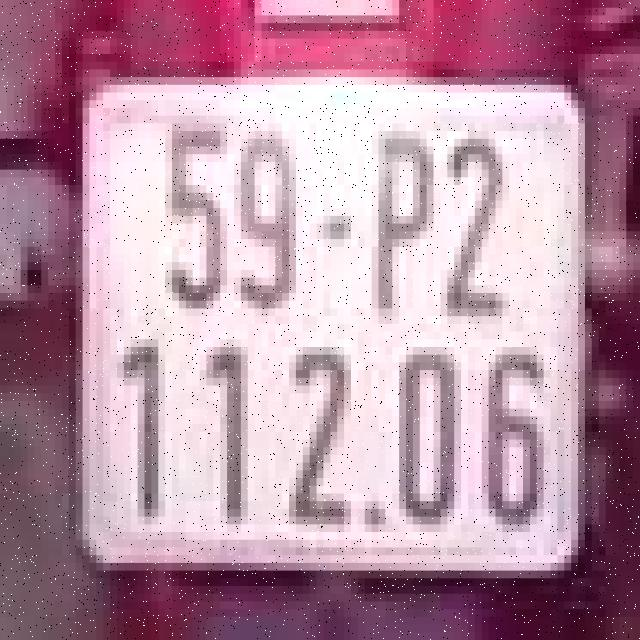0: (389, 335, 464, 536)
1: (110, 328, 179, 528), (203, 320, 258, 528)
2: (275, 340, 351, 548), (441, 123, 516, 324)
5: (151, 112, 234, 320)
6: (475, 336, 550, 552)
9: (230, 123, 300, 324)
P: (354, 127, 444, 328)
